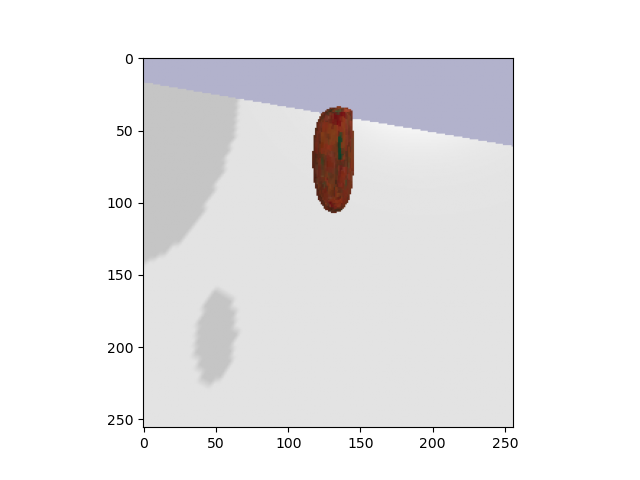v249b387_106: (305, 106, 369, 218)
